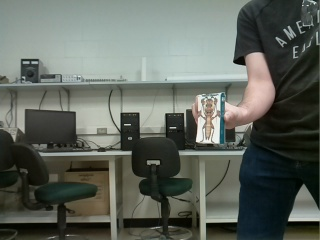Angry: (197, 96, 220, 143)
